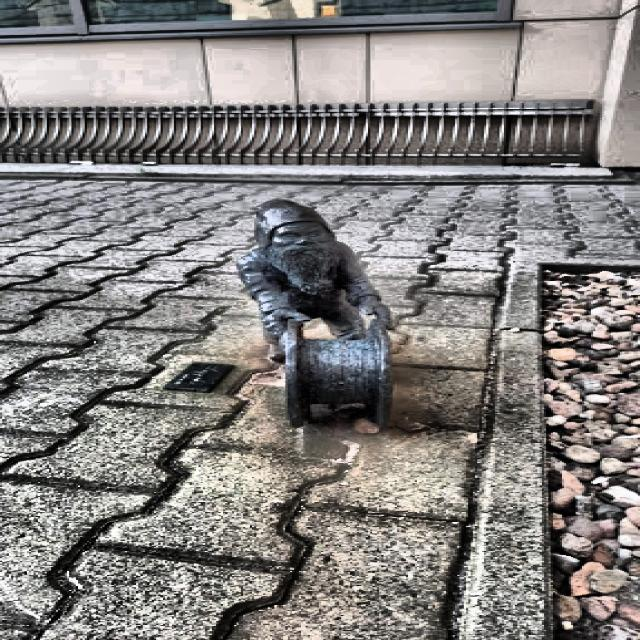Lappek: (238, 200, 391, 426)
